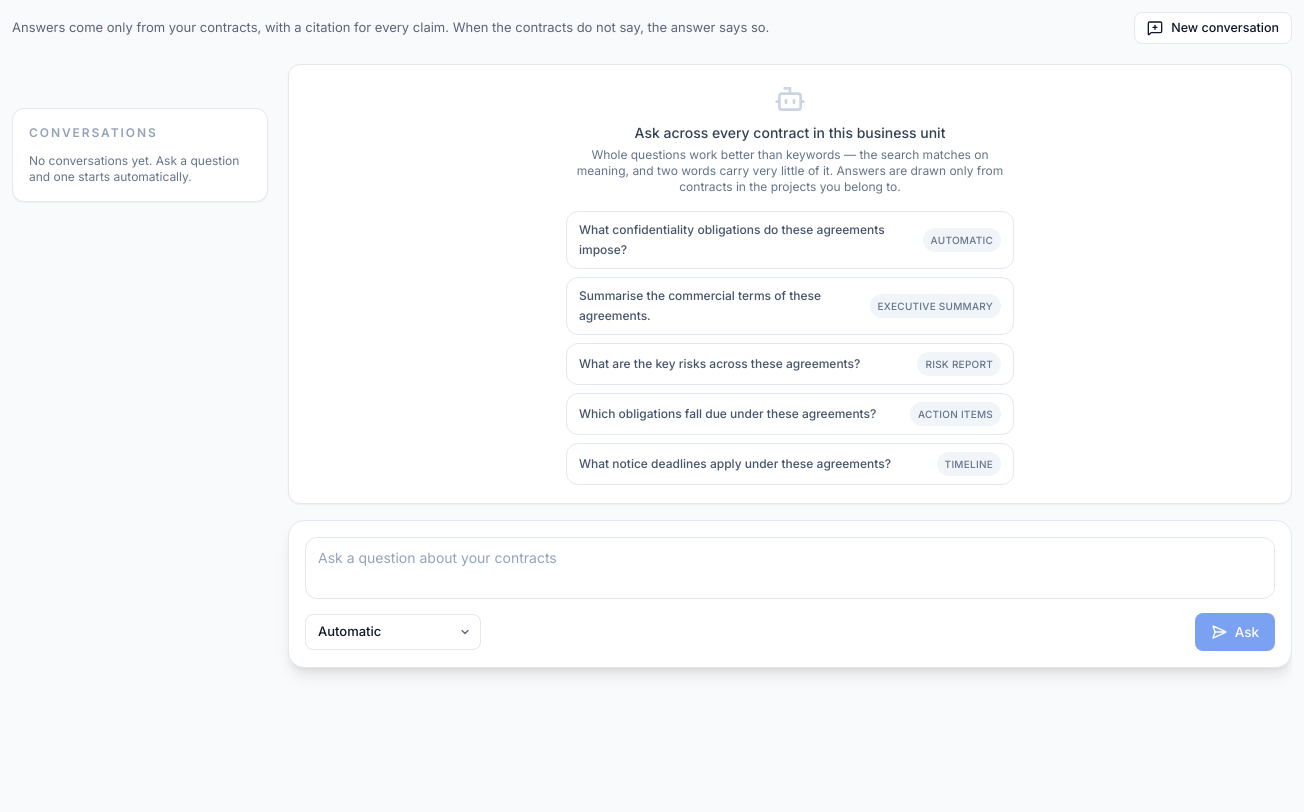
Scenario: CopilotPage › lists the source with its section, page and similarity
Type "What is the notice period?" into the text box named "your question" at (790, 568), box [305,537,1275,599]
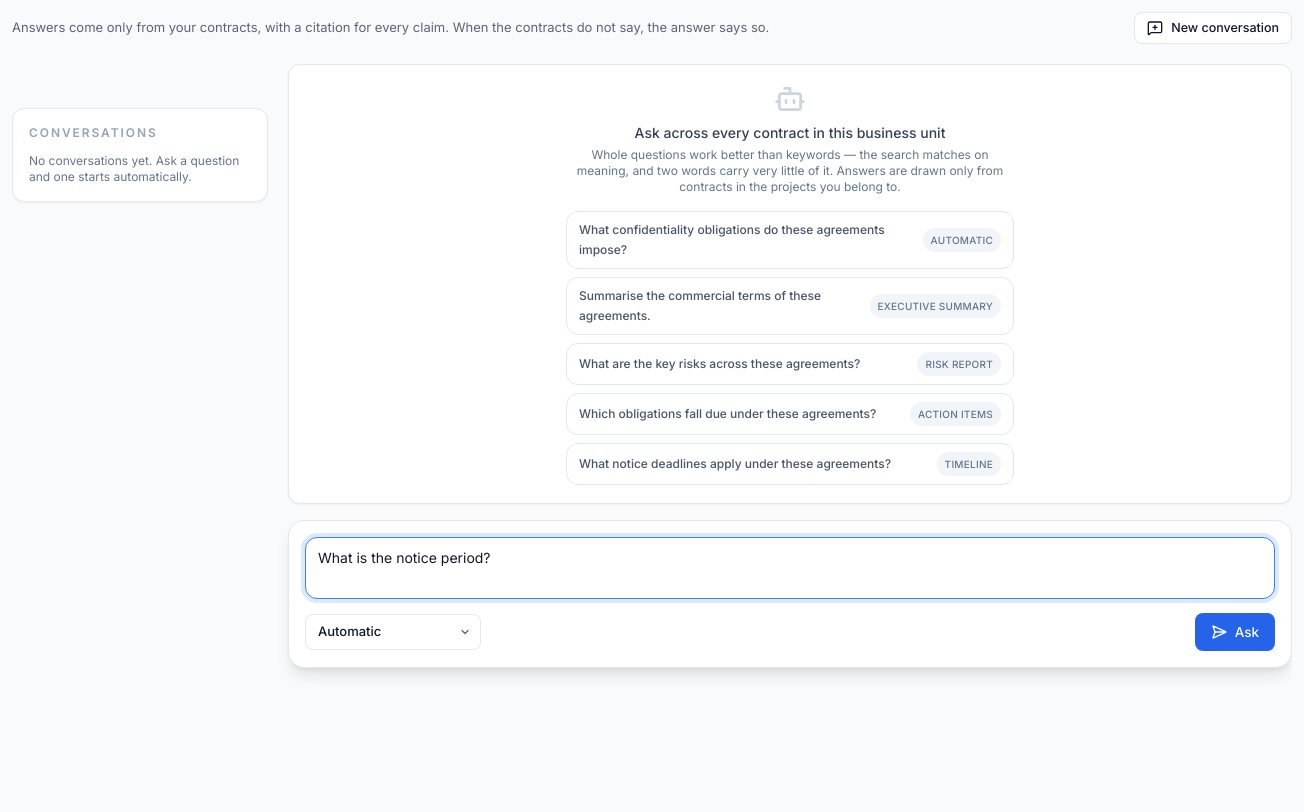
Click the button "Ask" at (1235, 632), box [1195,613,1275,651]
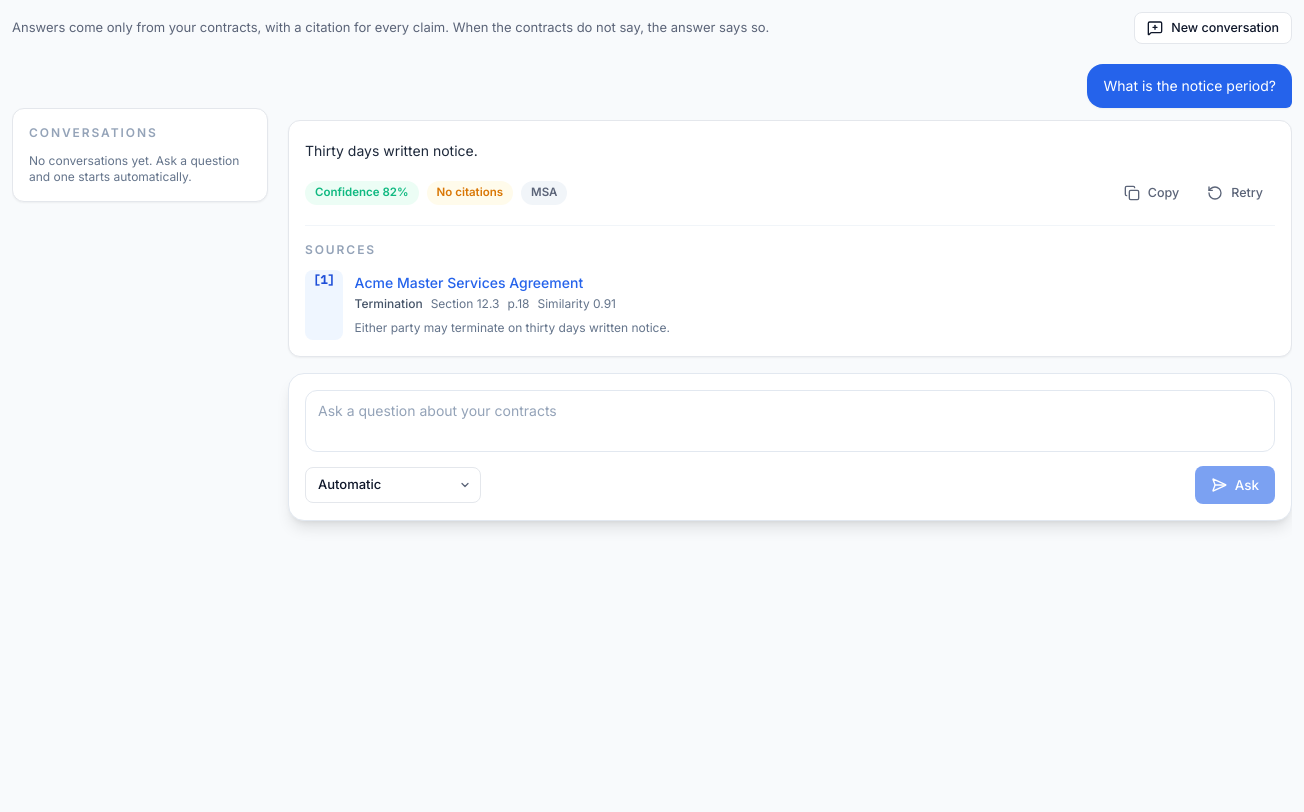
expect the link "Acme Master Services Agreement" is shown: met, box [355,274,583,291]
expect the text "Termination" is shown: met, box [355,296,423,312]
expect the text "Section 12.3" is shown: met, box [431,296,499,312]
